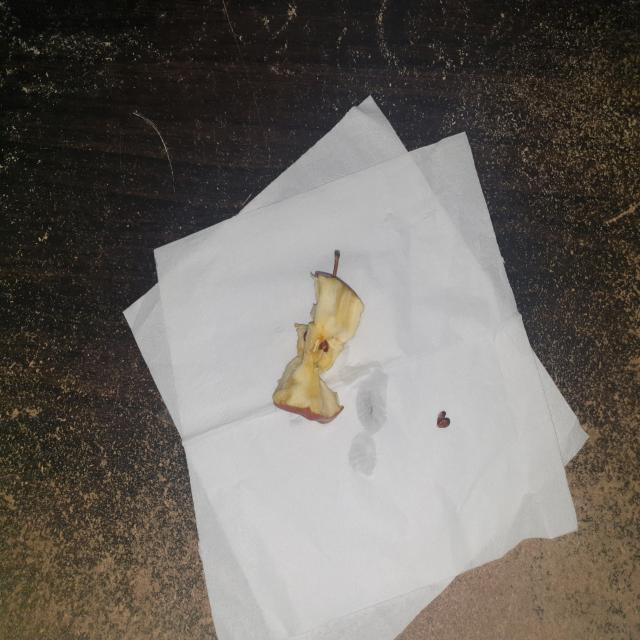apple: (269, 242, 372, 442)
